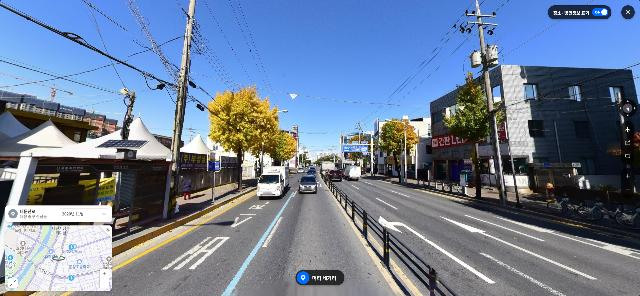ginkgo: (207, 84, 284, 191)
other: (440, 70, 509, 199), (378, 118, 420, 183), (269, 130, 297, 167), (346, 150, 362, 167)
